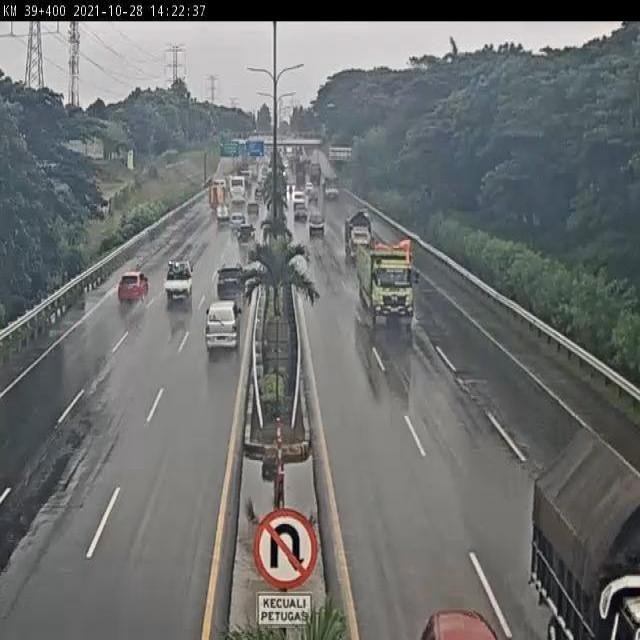car: (163, 258, 194, 302)
truck-l-: (358, 240, 420, 329)
truck-s-: (344, 207, 371, 265)
